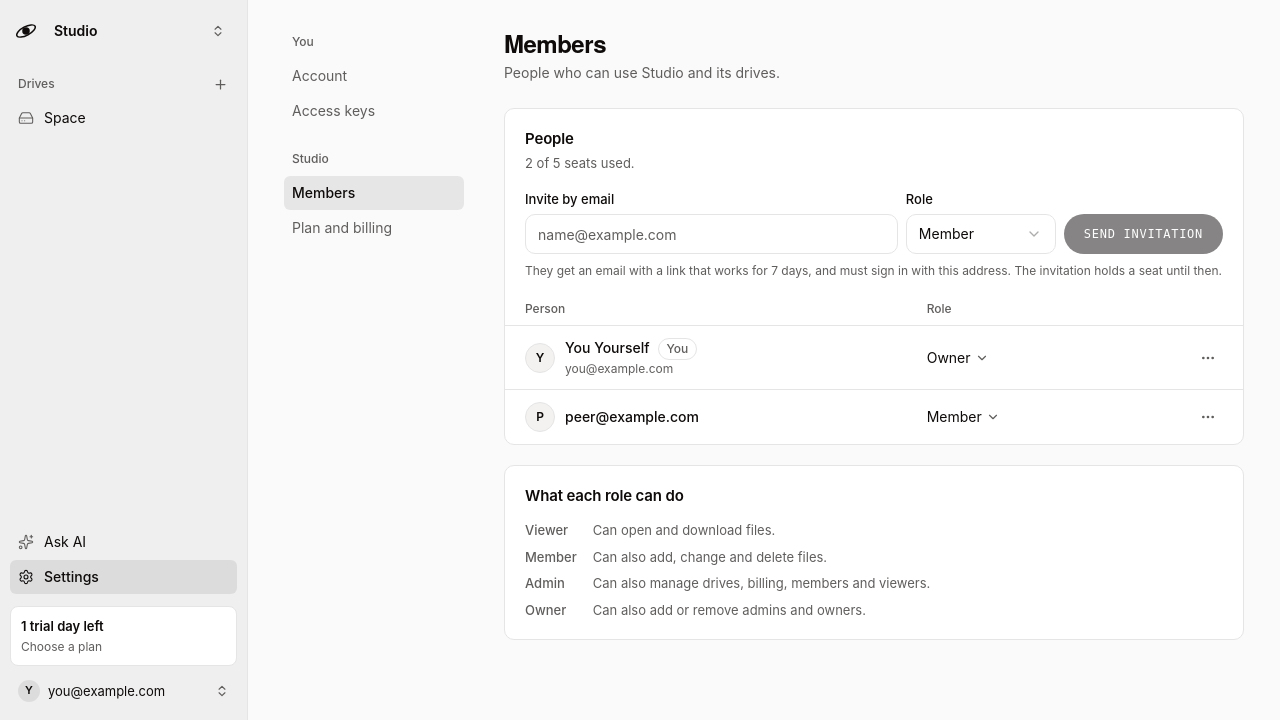
Test: changes a role from its menu, where each role is explained
The width and height of the screenshot is (1280, 720).
Click the button with aria-label "Role for peer@example.com: Member". click: (962, 417)
box: [919,403,1006,431]
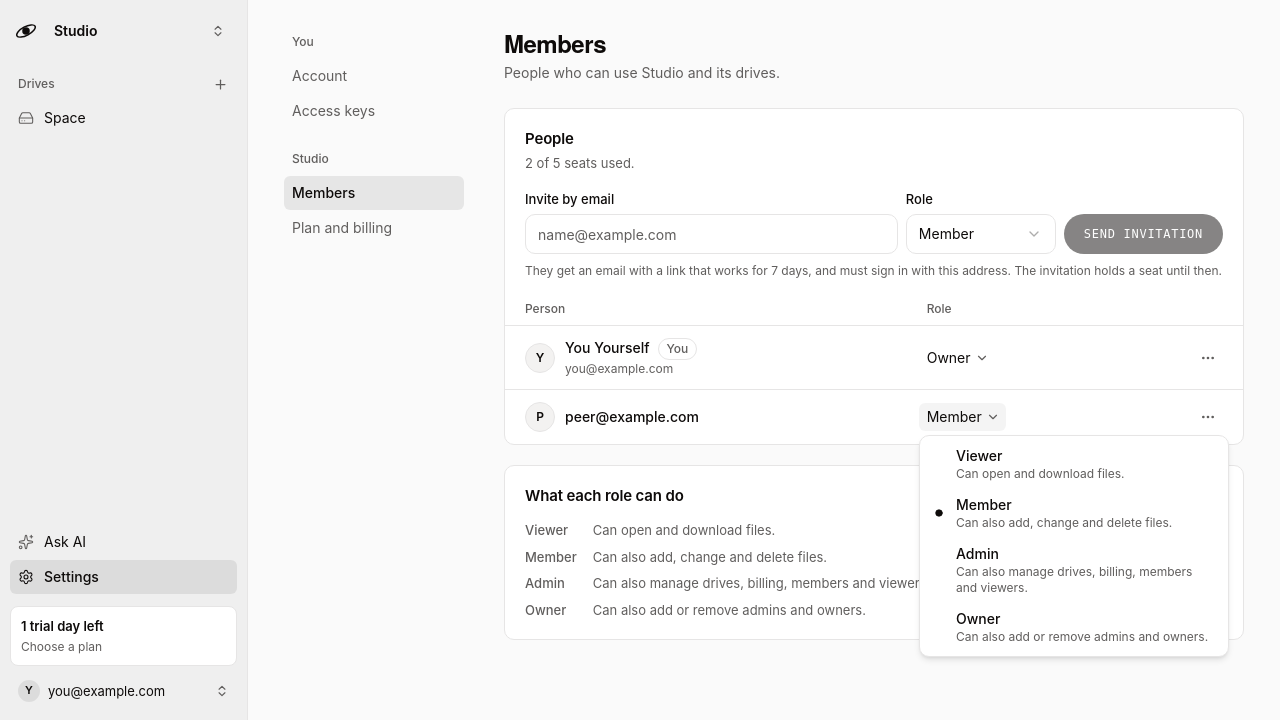
expect the number of menu items is 4: met
expect the menu item "member Can also add, change and delete files." is checked: met, box [935,496,1172,530]
Click the menu item "viewer Can open and download files.". click: (1040, 464)
box: [956,447,1124,481]
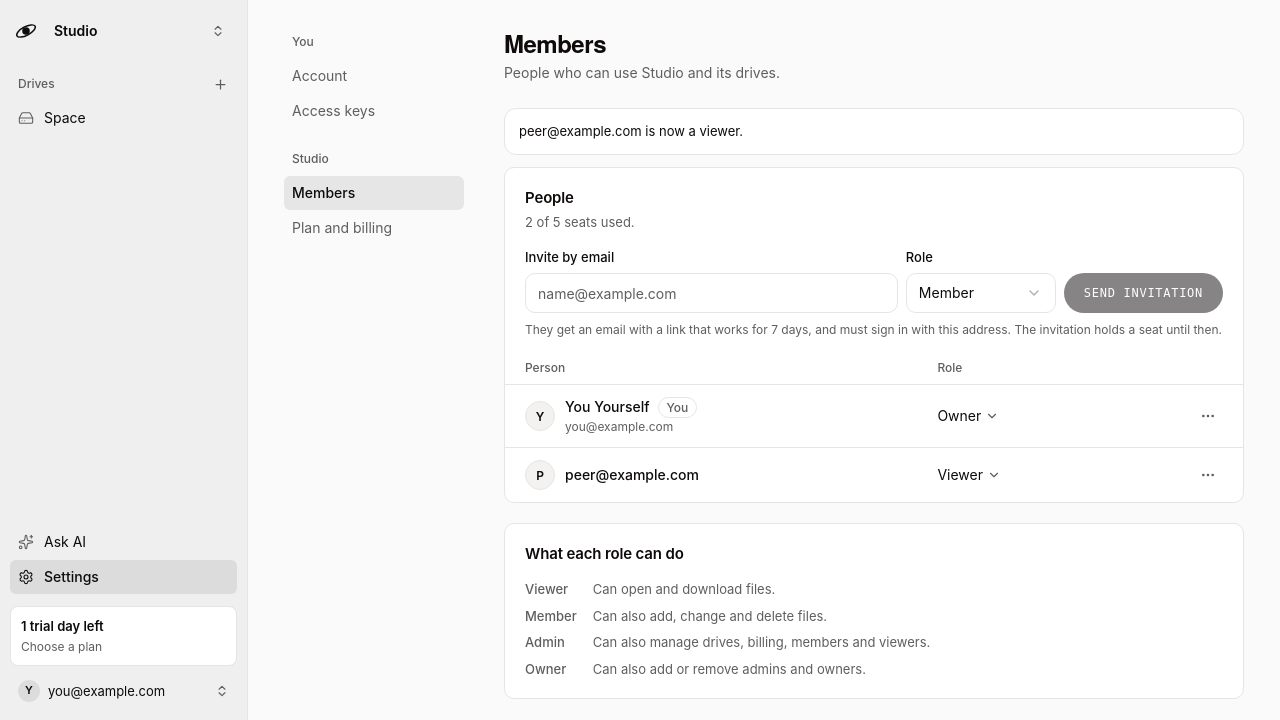
expect the text "Can open and download files." is shown: met, box [593,581,775,597]
expect the button with aria-label "Role for peer@example.com: Viewer" is shown: met, box [929,462,1007,490]
expect the text "peer@example.com is now a viewer." is shown: met, box [504,108,1244,155]
